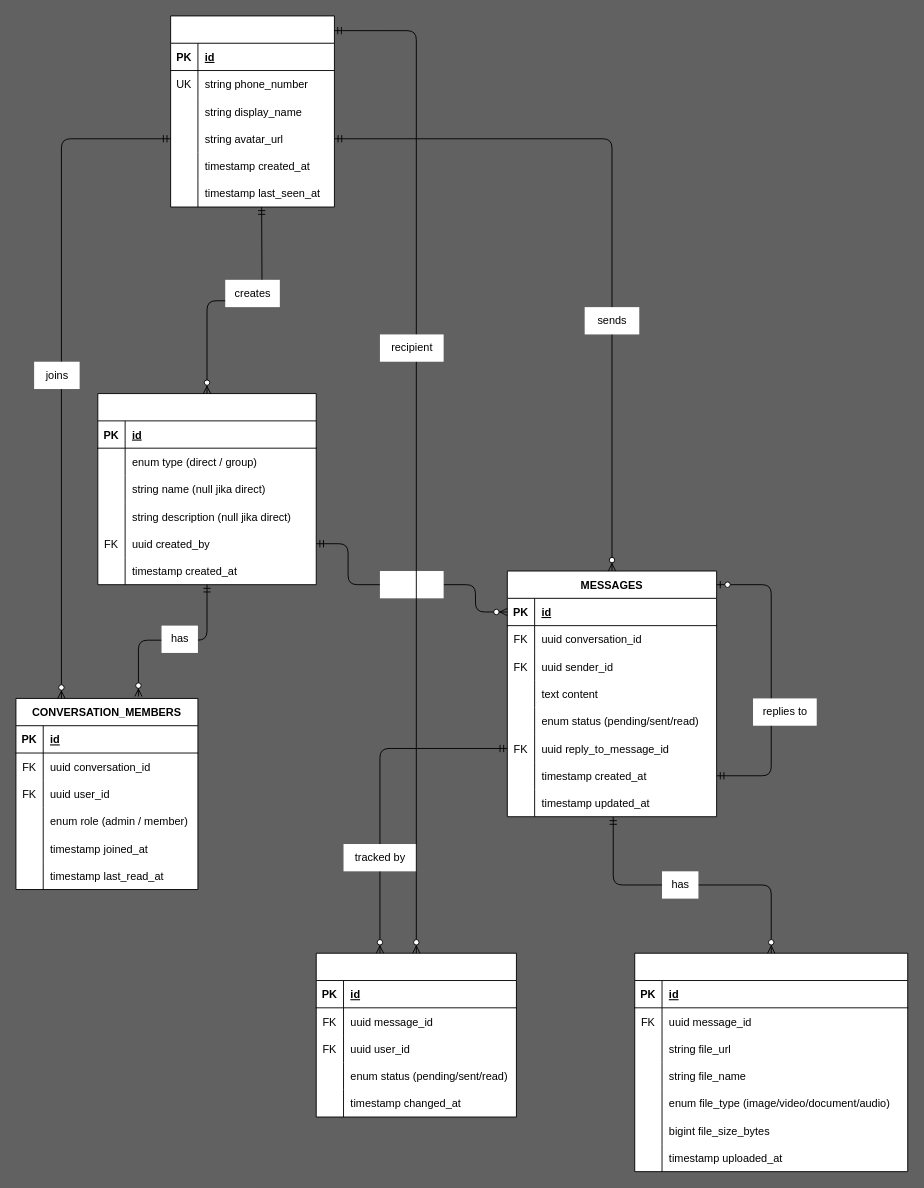
This 924x1188 diagram has some shape labels left out. Each missing label, with the box of its shape:
ATTACHMENTS: (634, 952, 908, 1172)
contains: (379, 571, 443, 598)
CONVERSATIONS: (97, 393, 316, 585)
MESSAGE_STATUS_LOGS: (315, 952, 516, 1117)
USERS: (170, 15, 334, 207)
